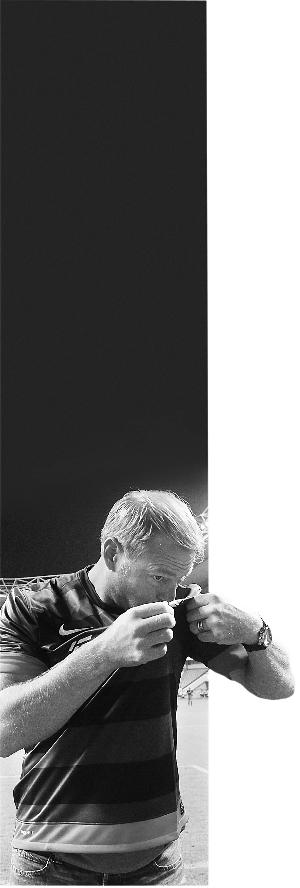face: (131, 536, 199, 619)
